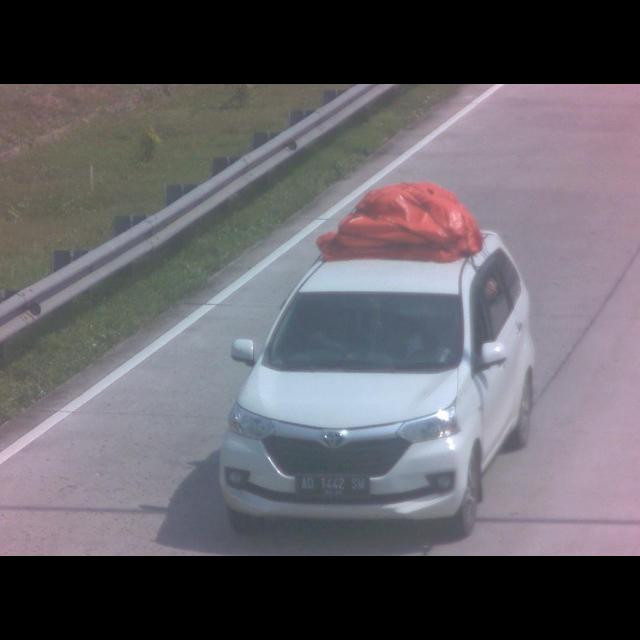plate: (296, 474, 370, 501)
